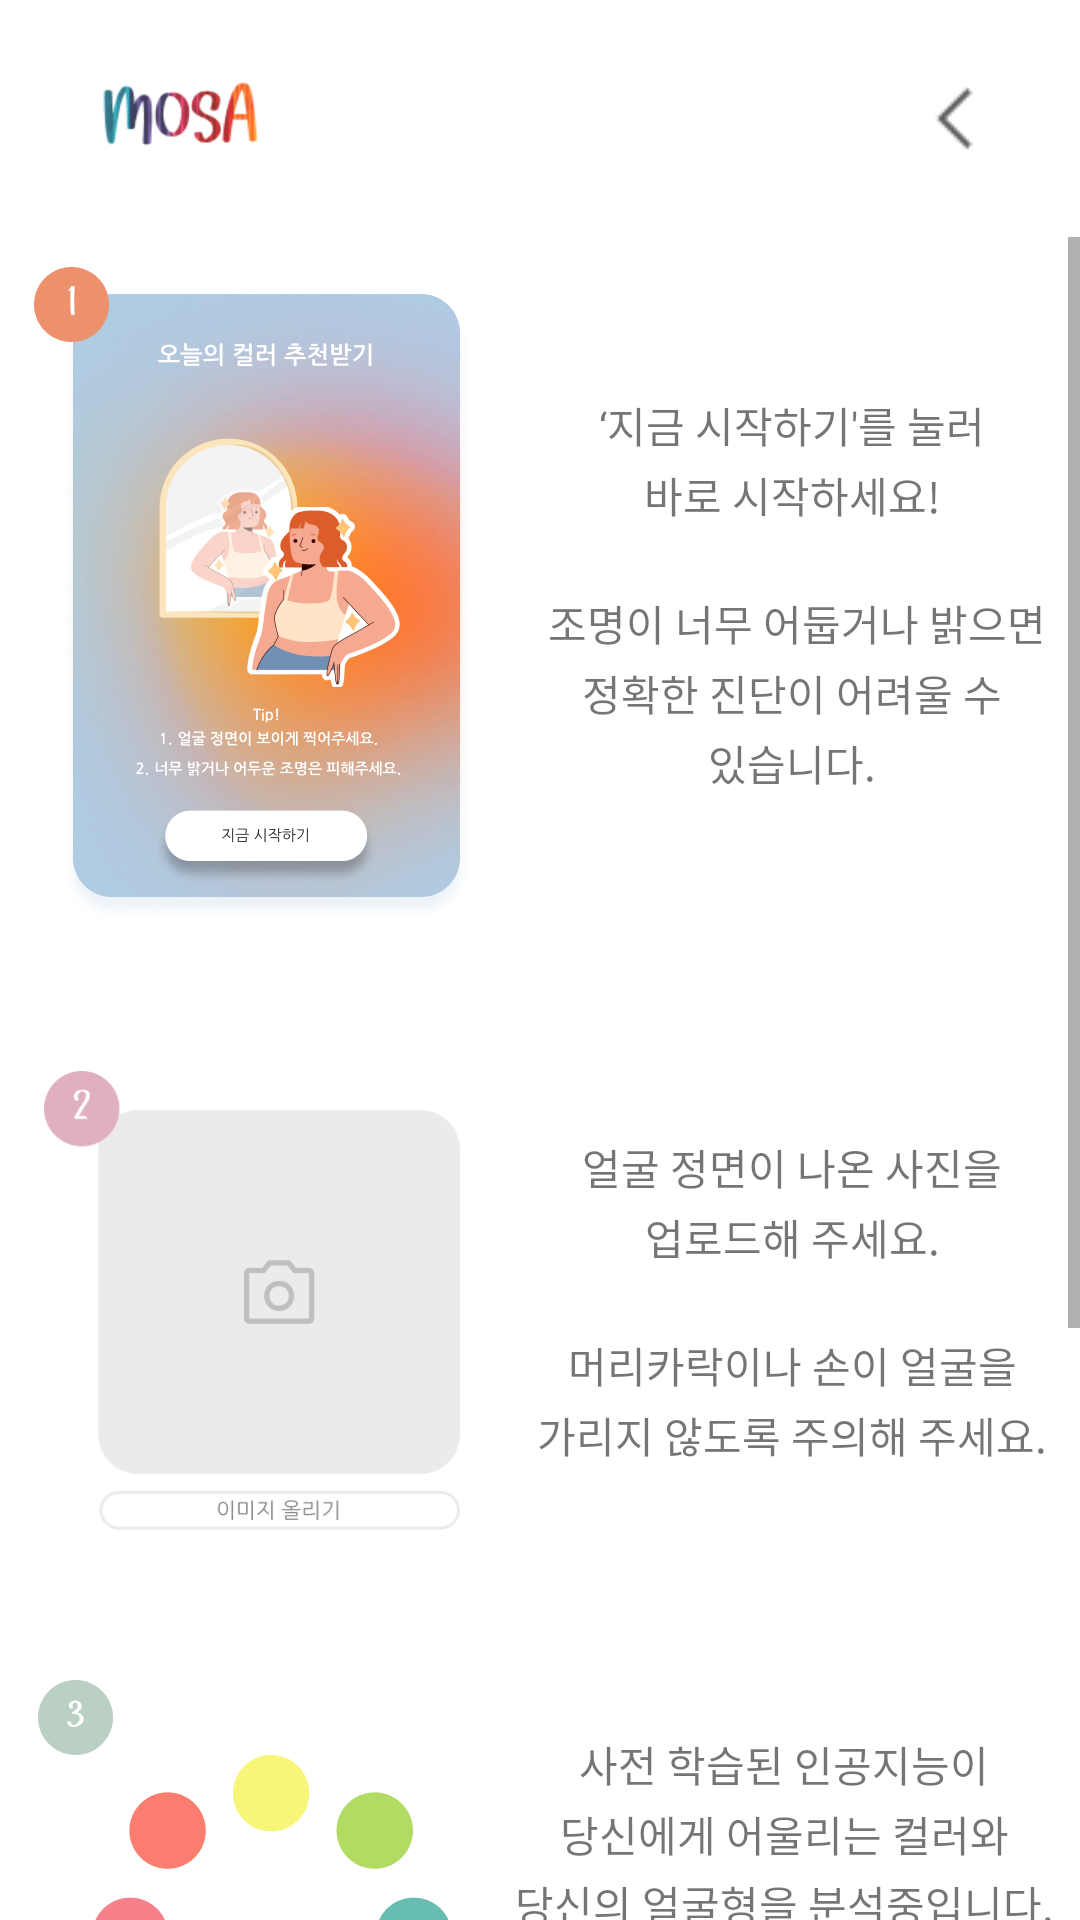

Icons on this 1080w x 1920h Android screen, each with its box as bbox=[x1, y1, x2, y2]:
arrow back: bbox=[937, 88, 972, 149]
